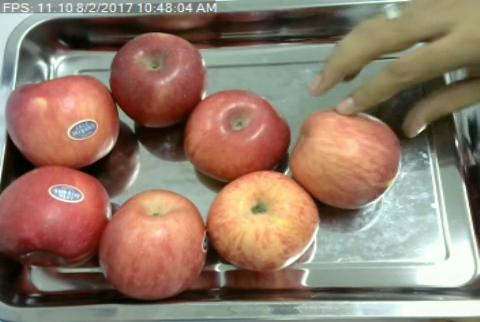apple: (206, 174, 321, 272), (104, 190, 206, 297), (293, 110, 402, 210), (1, 169, 108, 268), (5, 77, 121, 167), (186, 89, 292, 180), (108, 31, 206, 125)
